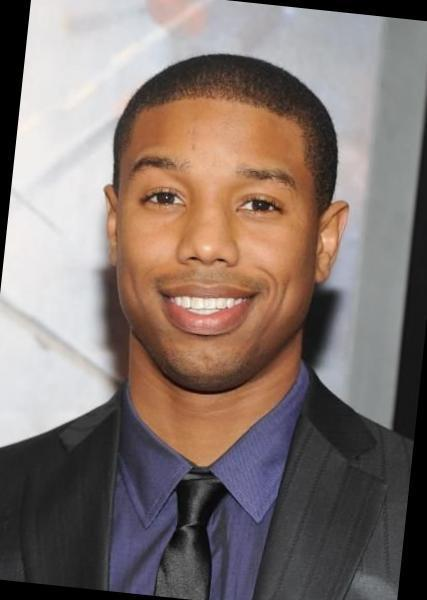Sober: (124, 114, 306, 360)
